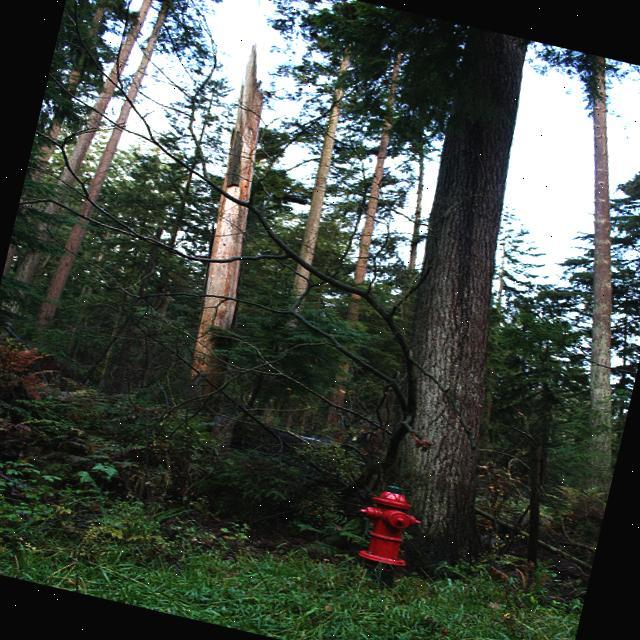fire_hydrant: (346, 473, 426, 568)
